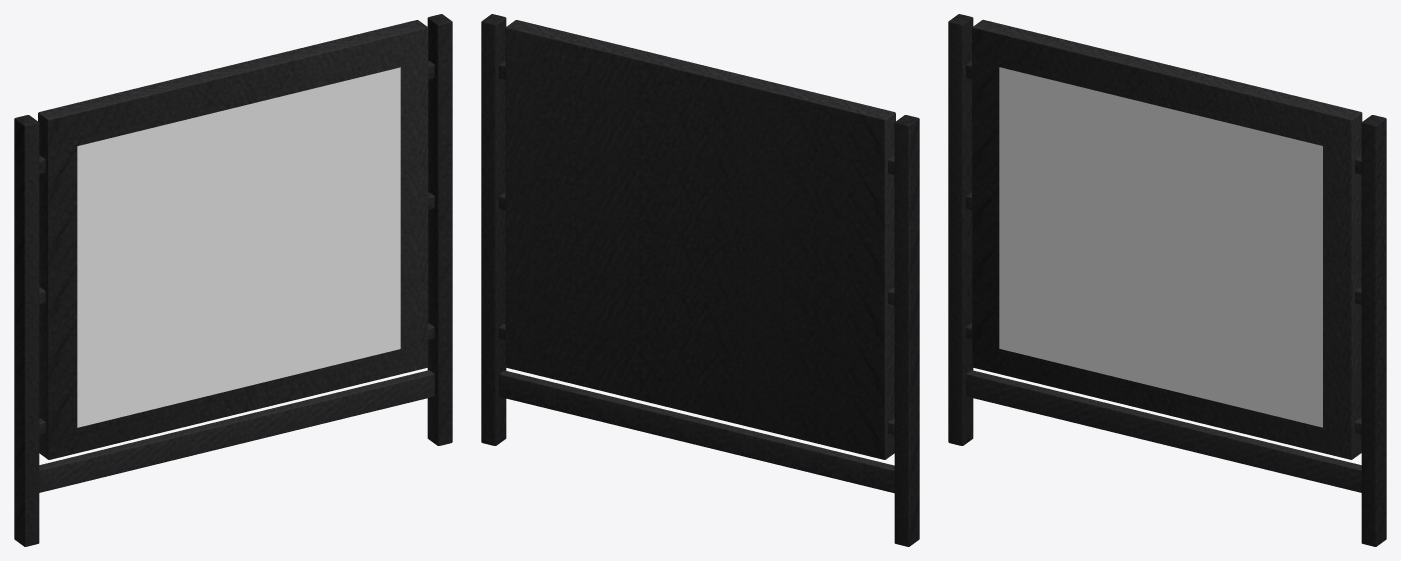
Rendered from 2_Leg_Outdoor_City_FloorStand.fbx.
3 views of the same model, side by side, from view 1: azimuth 30°, elevation 25°; view 2: azimuth 150°, elevation 25°; view 3: azimuth 330°, elevation 25° (orthographic).
Visible parts, largest first — view 1: 2-Leg_Outdoor_City_Floorstand_Ad001, 2-Leg_Outdoor_City_Floorstand_Frame; view 2: 2-Leg_Outdoor_City_Floorstand_Frame; view 3: 2-Leg_Outdoor_City_Floorstand_Ad001, 2-Leg_Outdoor_City_Floorstand_Frame.
Part boxes in pixels (bbox=[...]): 2-Leg_Outdoor_City_Floorstand_Ad001: bbox=[77, 67, 400, 427]; 2-Leg_Outdoor_City_Floorstand_Frame: bbox=[14, 14, 452, 546]; 2-Leg_Outdoor_City_Floorstand_Frame: bbox=[481, 14, 919, 546]; 2-Leg_Outdoor_City_Floorstand_Ad001: bbox=[999, 67, 1322, 427]; 2-Leg_Outdoor_City_Floorstand_Frame: bbox=[948, 14, 1386, 546].
Size of the model in its own units: 39.92 by 37.57 by 1.84.
2 materials, 2 textured.
